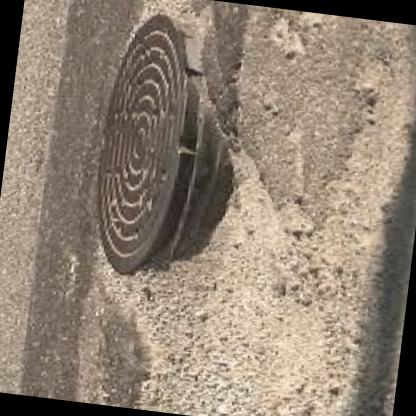manholes: (27, 0, 282, 307)
